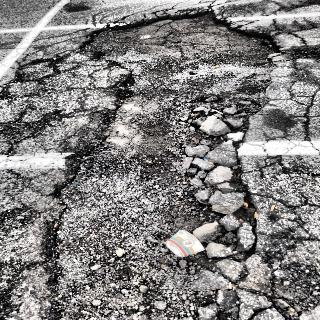pothole: (44, 5, 287, 320)
